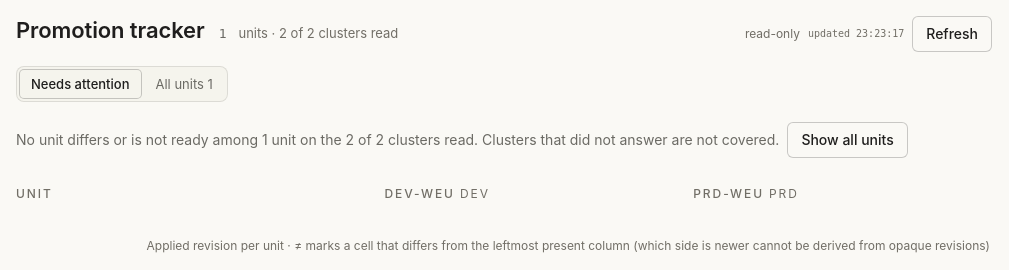
Test: FleetPromotion › show-all reveals healthy rows; absent clusters say absent
Expected: the button "Needs attention" is shown, [19,69,142,99]
Click the button "All units 1": [184, 84] box [144,69,225,99]
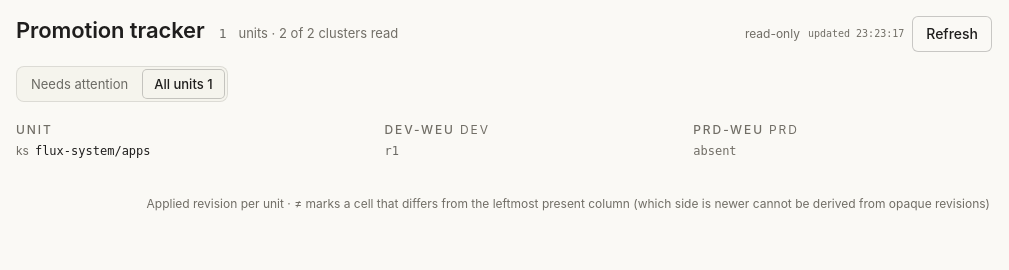
Expected: the text "flux-system/apps" is shown, [35,142,150,160]
Expected: the text "absent" is shown, [693,144,737,158]
